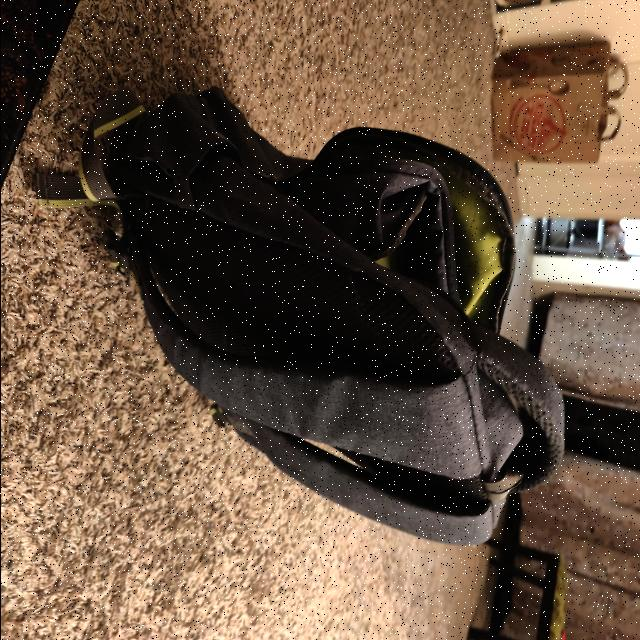bag: (120, 78, 570, 524)
